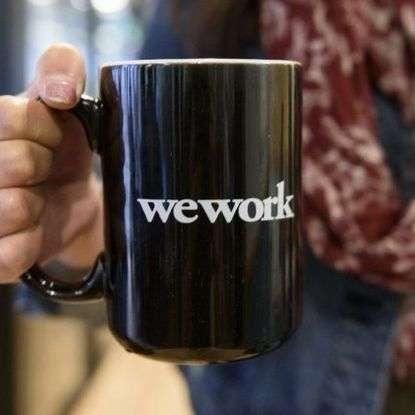wework: (134, 178, 297, 225)
